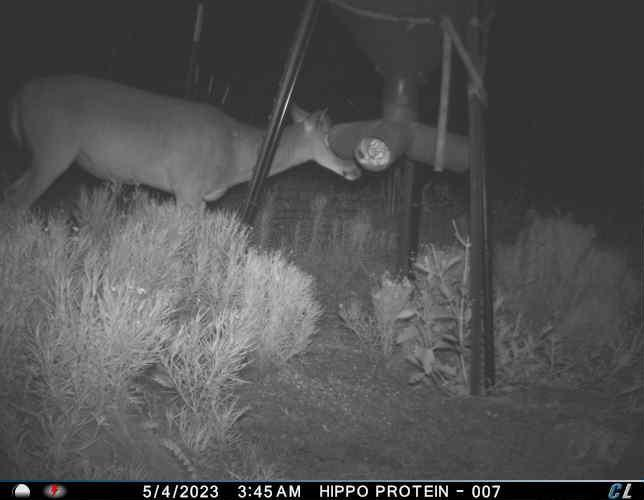Deer: (0, 69, 369, 233)
